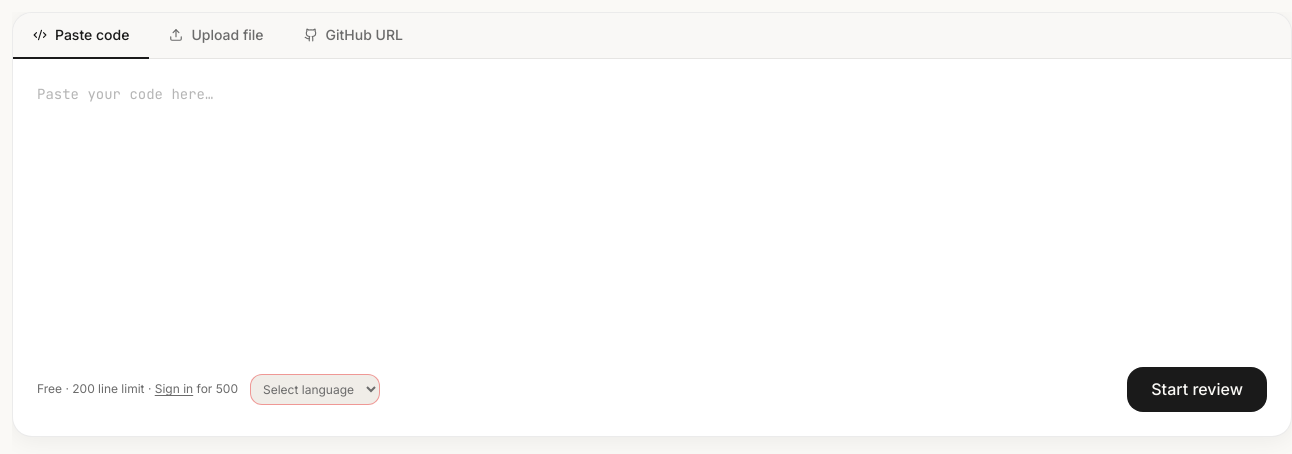
InputPanel — tab navigation › switching to GitHub tab shows URL input
Step 1. Click the button "GitHub URL" → [353, 36], box top-left (284, 13), bottom-right (423, 59)
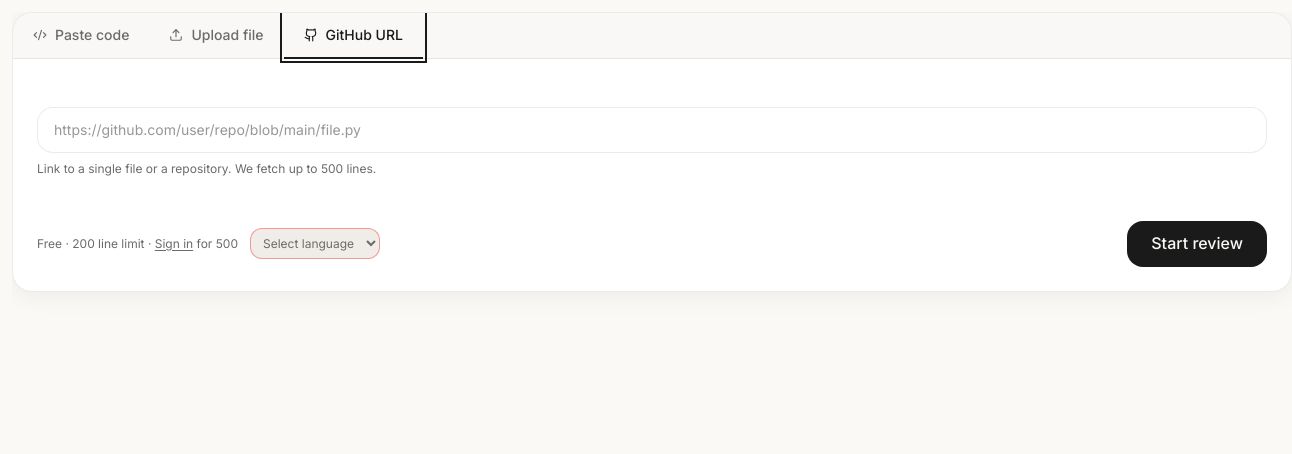
Result: the field with placeholder "https://github.com/user/repo/blob/main/file.py" is shown at top-left (37, 107), bottom-right (1267, 153)
